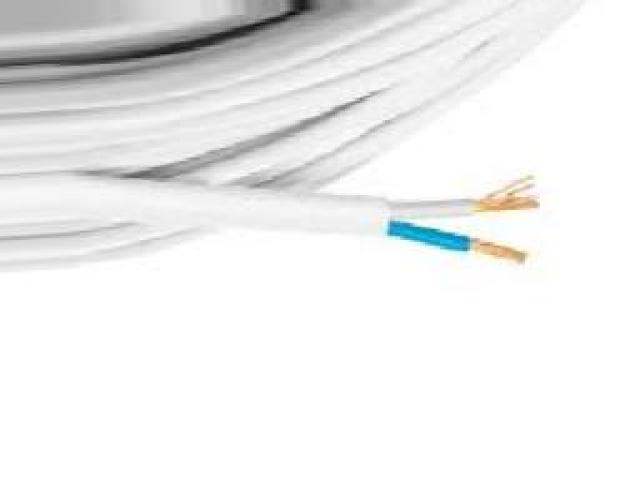wire: (0, 0, 592, 274)
